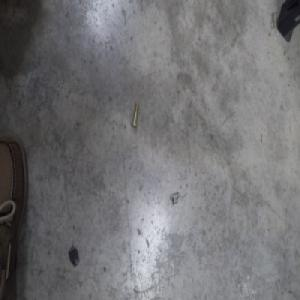Bolt: (130, 102, 139, 130)
